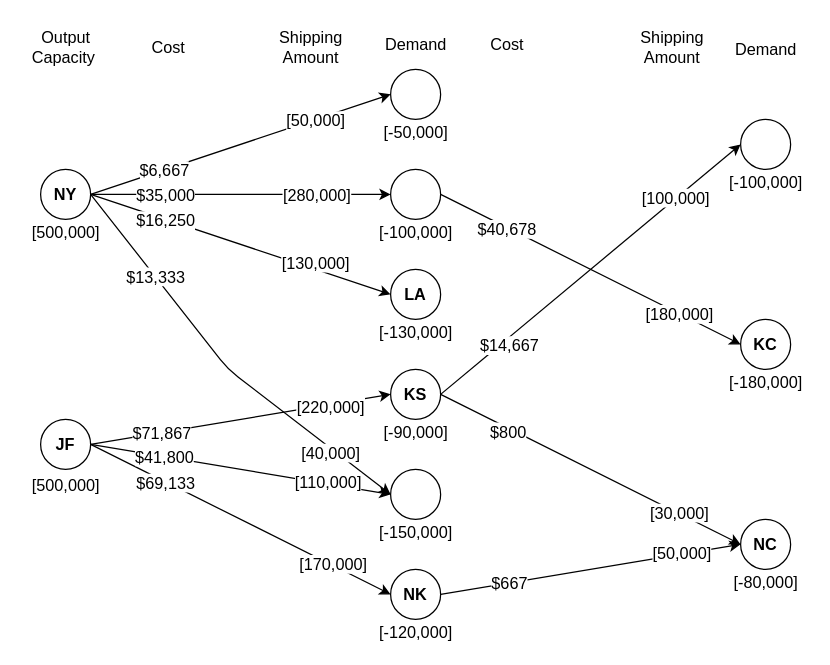
Some shapes in this 830 by 665 pixel diagram are drawn without their labels. The box of each missing label's shape, as (x1, y1, x2, y2) in pixels:
DS: (389, 68, 441, 119)
LG: (389, 168, 441, 219)
LZ: (389, 468, 441, 519)
NN: (739, 118, 791, 169)
